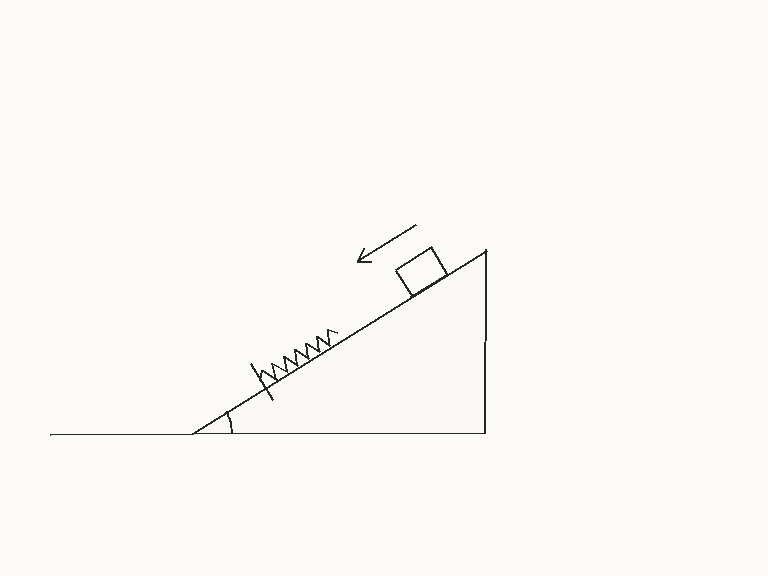block: (393, 246, 449, 298)
ramp: (190, 248, 487, 435)
spring: (259, 327, 339, 382)
